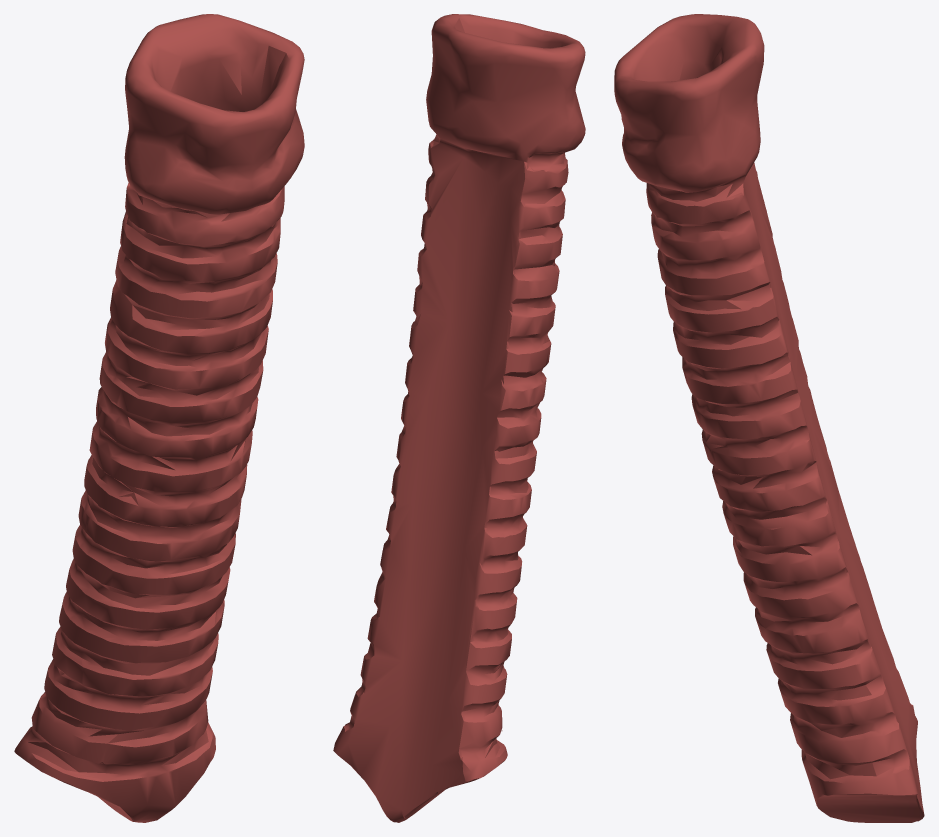
Rendered from lung4.fbx.
3 renders of one model, left to right at view 1: azimuth 30°, elevation 25°; view 2: azimuth 150°, elevation 25°; view 3: azimuth 270°, elevation 25°, orthographic. The views are drawn at different scales.
Parts seen in each view (by area): view 1: mesh; view 2: mesh; view 3: mesh.
Boxes of the visible parts, left/top/right/bottom form: mesh: left=14, top=14, right=304, bottom=822; mesh: left=333, top=14, right=585, bottom=822; mesh: left=614, top=14, right=924, bottom=822.
Bounding box in the file's own units: 25.76 × 118 × 42.07.
